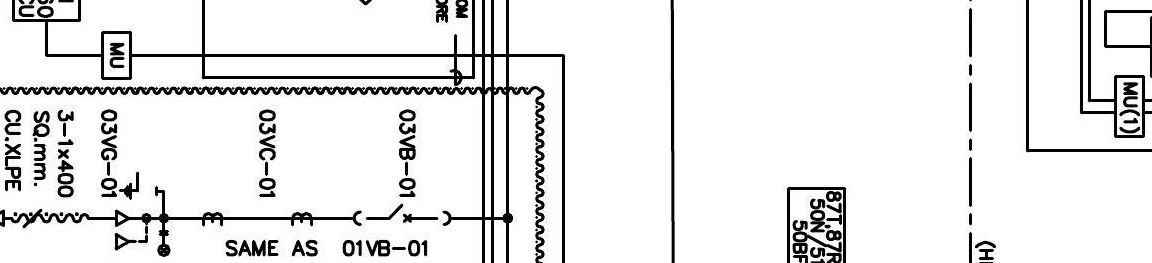22_breaker: (352, 203, 452, 226)
22_gs: (119, 170, 158, 201)
22_ll: (156, 229, 171, 257)
MU: (1113, 75, 1145, 138), (100, 30, 133, 81)
terminator_w_future: (114, 209, 149, 253)
